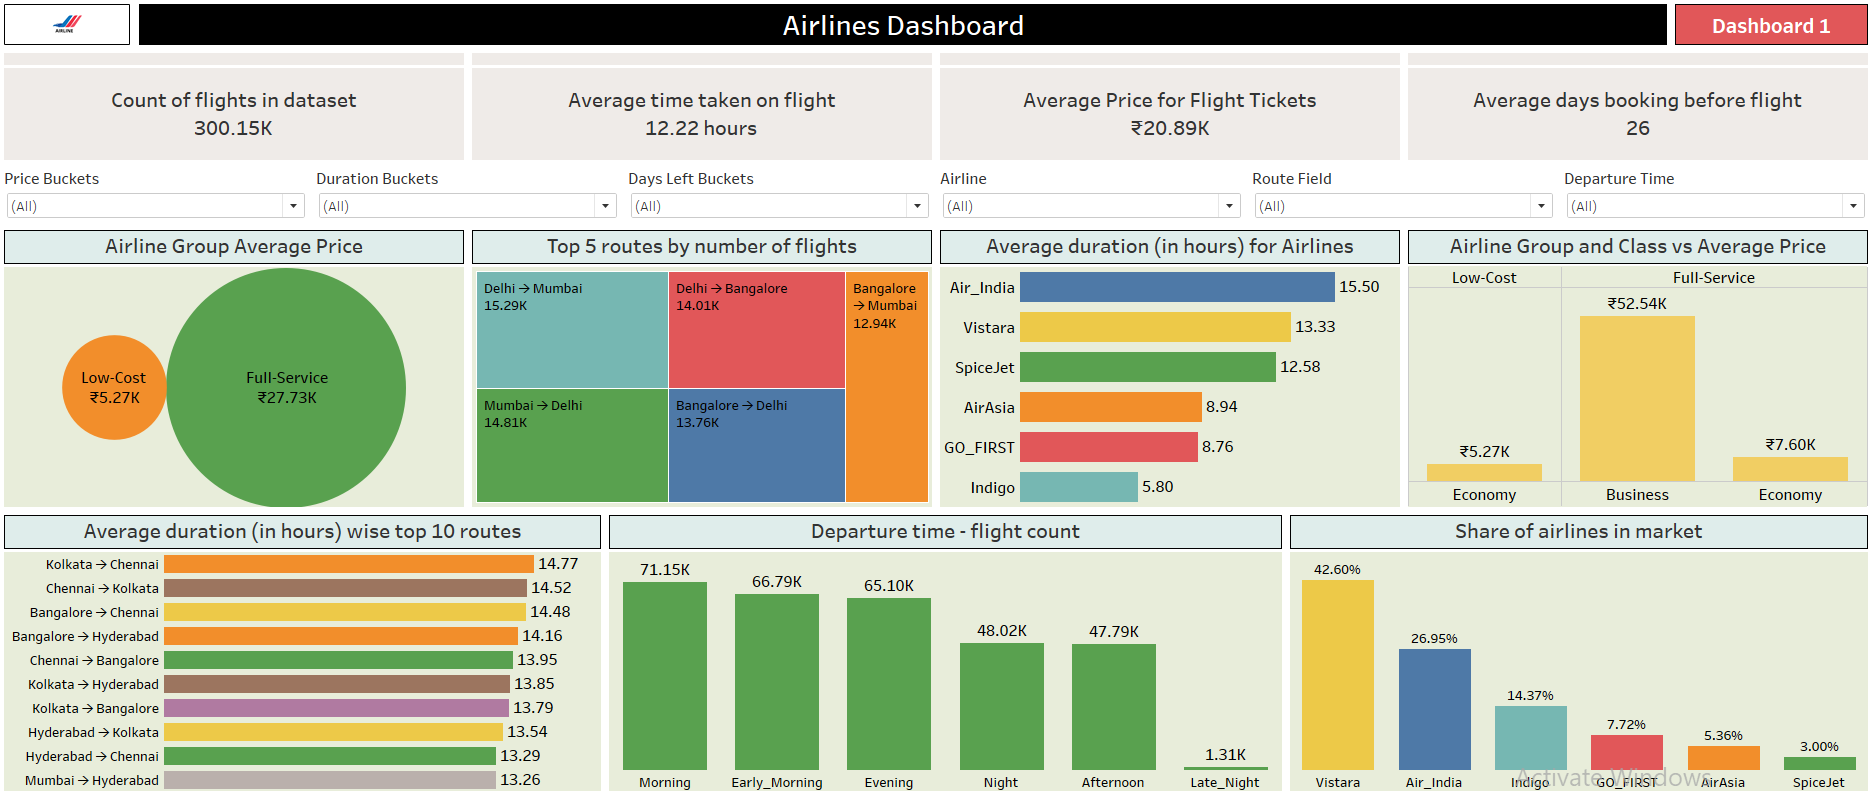

Layout of this report page (visuals, bound fields, positions):
{"tool":"tableau","page":{"name":"Dashboard 2","canvas":[1000,1000],"units":"permille","ordinal":1},"visuals":[{"type":"image","param":"Image/istockphoto-1266129229-612x612.jpg","box":[4.8,9.9,71.2,60.4]},{"type":"text","box":[76,9.9,812.9,60.4]},{"type":"dashboard-object","box":[889,9.9,106.2,60.4]},{"type":"worksheet","title":"Count","mark":"Automatic","box":[4.8,70.3,247.6,141.8]},{"type":"worksheet","title":"Average time","mark":"Automatic","box":[252.4,70.3,247.6,141.8]},{"type":"worksheet","title":"Average price","mark":"Automatic","box":[500,70.3,247.6,141.8]},{"type":"worksheet","title":"Average days","mark":"Automatic","box":[747.6,70.3,247.6,141.8]},{"type":"filter","title":"Average days","param":"[federated.1hxg1hu1w1tkyj144zght1nakg02].[none:Calculation_449515595441553412:nk","box":[4.8,212.1,165.4,76.5]},{"type":"filter","title":"Average days","param":"[federated.1hxg1hu1w1tkyj144zght1nakg02].[none:Calculation_449515595438612481:nk","box":[170.2,212.1,165.4,76.5]},{"type":"filter","title":"Average days","param":"[federated.1hxg1hu1w1tkyj144zght1nakg02].[none:Calculation_449515595441410051:nk","box":[335.6,212.1,165.4,76.5]},{"type":"filter","title":"Average days","param":"[federated.1hxg1hu1w1tkyj144zght1nakg02].[none:airline:nk]","box":[500.9,212.1,164.8,76.5]},{"type":"filter","title":"Average days","param":"[federated.1hxg1hu1w1tkyj144zght1nakg02].[none:Calculation_449515595441954821:nk","box":[665.7,212.1,164.8,76.5]},{"type":"filter","title":"Average days","param":"[federated.1hxg1hu1w1tkyj144zght1nakg02].[none:departure_time:nk]","box":[830.4,212.1,164.8,76.5]},{"type":"worksheet","title":"airline group avg price","mark":"Circle","box":[4.8,288.5,247.6,350.8]},{"type":"worksheet","title":"Top 5 routes by flights no","mark":"Automatic","box":[252.4,288.5,247.6,350.8]},{"type":"worksheet","title":"Average duration by airlines","mark":"Automatic","rows":["airline"],"cols":["duration"],"box":[500,288.5,247.6,350.8]},{"type":"worksheet","title":"Airline group and class vs avg price","mark":"Automatic","rows":["price"],"cols":["class"],"box":[747.6,288.5,247.6,350.8]},{"type":"worksheet","title":"Top 10 routes and avg duration","mark":"Automatic","rows":["Calculation_449515595441954821"],"cols":["duration"],"box":[4.8,639.3,319.8,350.8]},{"type":"worksheet","title":"dep time vs count","mark":"Automatic","rows":["index"],"cols":["departure_time"],"box":[324.7,639.3,360.3,350.8]},{"type":"worksheet","title":"airlines share","mark":"Automatic","rows":["flight"],"cols":["airline"],"box":[685,639.3,310.2,350.8]}]}

Visuals, with their boxes on the dashboard's canvas, which has no fixed pixel size, in thousandths of its width and height (x1, y1, x2, y2). These are canvas units, not pixel positions in the 1874x796 screenshot, which may show the page scaled, cropped or inside an application window:
image: bbox=[5, 10, 76, 70]
text: bbox=[76, 10, 889, 70]
dashboard-object: bbox=[889, 10, 995, 70]
"Count" worksheet: bbox=[5, 70, 252, 212]
"Average time" worksheet: bbox=[252, 70, 500, 212]
"Average price" worksheet: bbox=[500, 70, 748, 212]
"Average days" worksheet: bbox=[748, 70, 995, 212]
"Average days" filter: bbox=[5, 212, 170, 289]
"Average days" filter: bbox=[170, 212, 336, 289]
"Average days" filter: bbox=[336, 212, 501, 289]
"Average days" filter: bbox=[501, 212, 666, 289]
"Average days" filter: bbox=[666, 212, 830, 289]
"Average days" filter: bbox=[830, 212, 995, 289]
"airline group avg price" worksheet (Circle marks): bbox=[5, 288, 252, 639]
"Top 5 routes by flights no" worksheet: bbox=[252, 288, 500, 639]
"Average duration by airlines" worksheet: bbox=[500, 288, 748, 639]
"Airline group and class vs avg price" worksheet: bbox=[748, 288, 995, 639]
"Top 10 routes and avg duration" worksheet: bbox=[5, 639, 325, 990]
"dep time vs count" worksheet: bbox=[325, 639, 685, 990]
"airlines share" worksheet: bbox=[685, 639, 995, 990]
